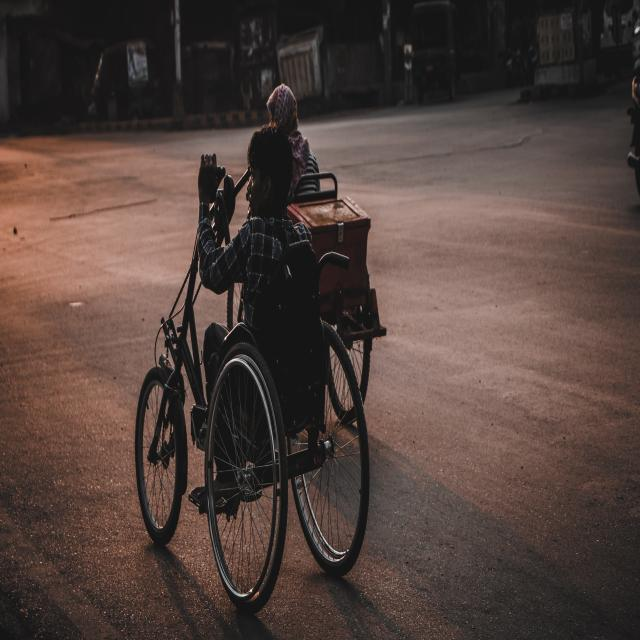wheelchairs: (135, 165, 371, 608)
